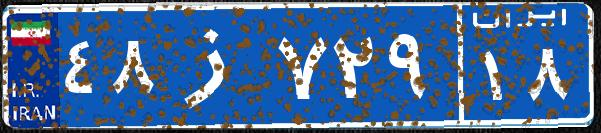1: (475, 38, 525, 113)
2: (330, 28, 385, 110)
4: (57, 26, 110, 107)
7: (273, 28, 330, 110)
8: (110, 28, 158, 105), (525, 38, 570, 115)
9: (385, 28, 445, 110)
ز: (158, 15, 273, 115)
